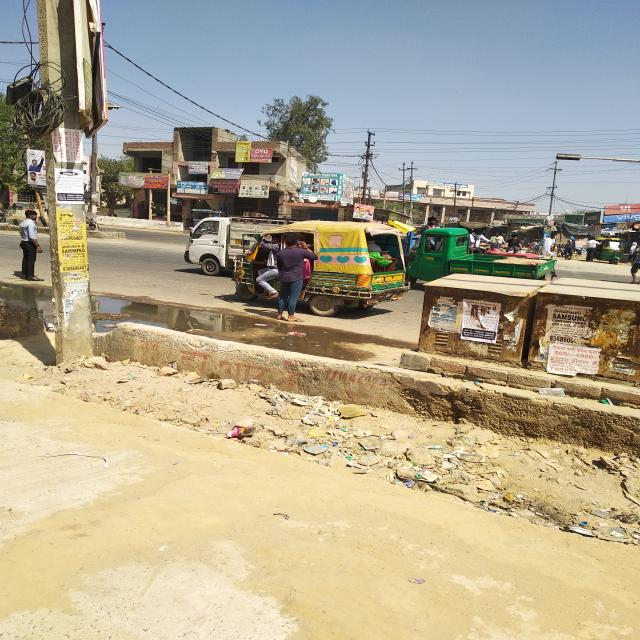Autorickshaw: (585, 235, 630, 266)
Bike: (528, 240, 545, 255), (0, 203, 10, 225), (556, 245, 566, 259), (575, 242, 585, 255)
tempo: (235, 220, 409, 318), (406, 226, 554, 291), (183, 212, 306, 279)
tractor: (470, 230, 546, 263)
